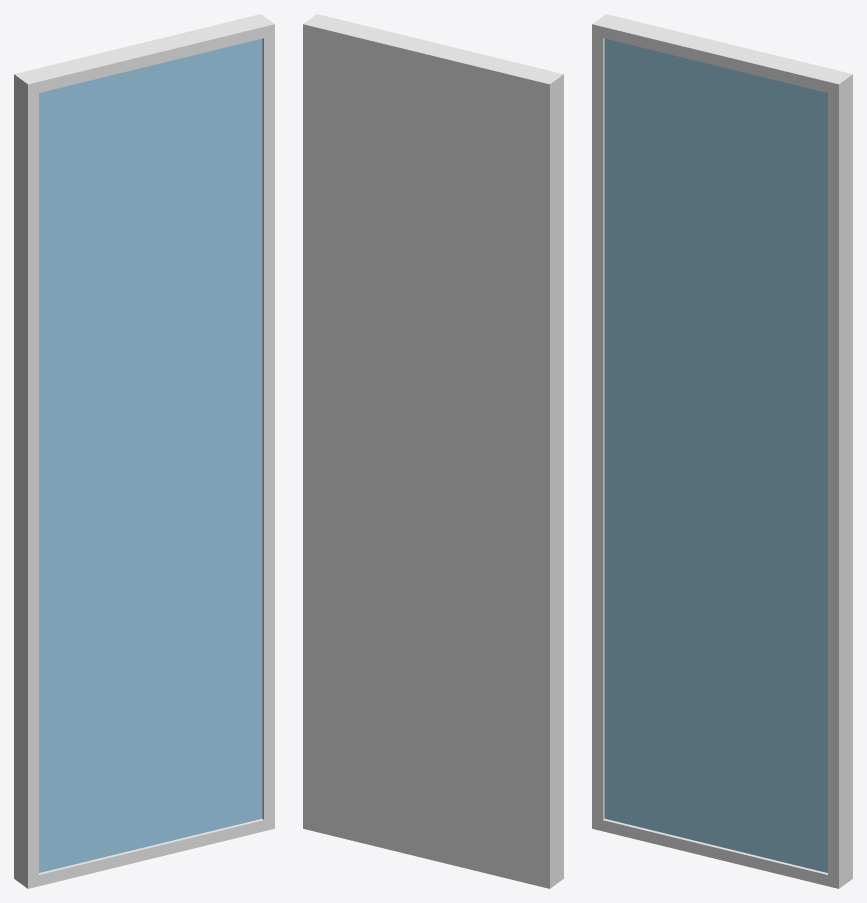
File: picture_054.glb
3 views of the same model, side by side, from view 1: azimuth 30°, elevation 25°; view 2: azimuth 150°, elevation 25°; view 3: azimuth 330°, elevation 25° (orthographic).
Parts seen in each view (by area): view 1: picture_054; view 2: picture_054; view 3: picture_054.
Boxes of the visible parts, x1,y1,x2,y2 form: picture_054: [14, 14, 274, 888]; picture_054: [303, 14, 563, 888]; picture_054: [592, 14, 852, 888].
Bounding box in the file's own units: 0.5601 × 1.74 × 0.0549.
1 material, 1 textured.
